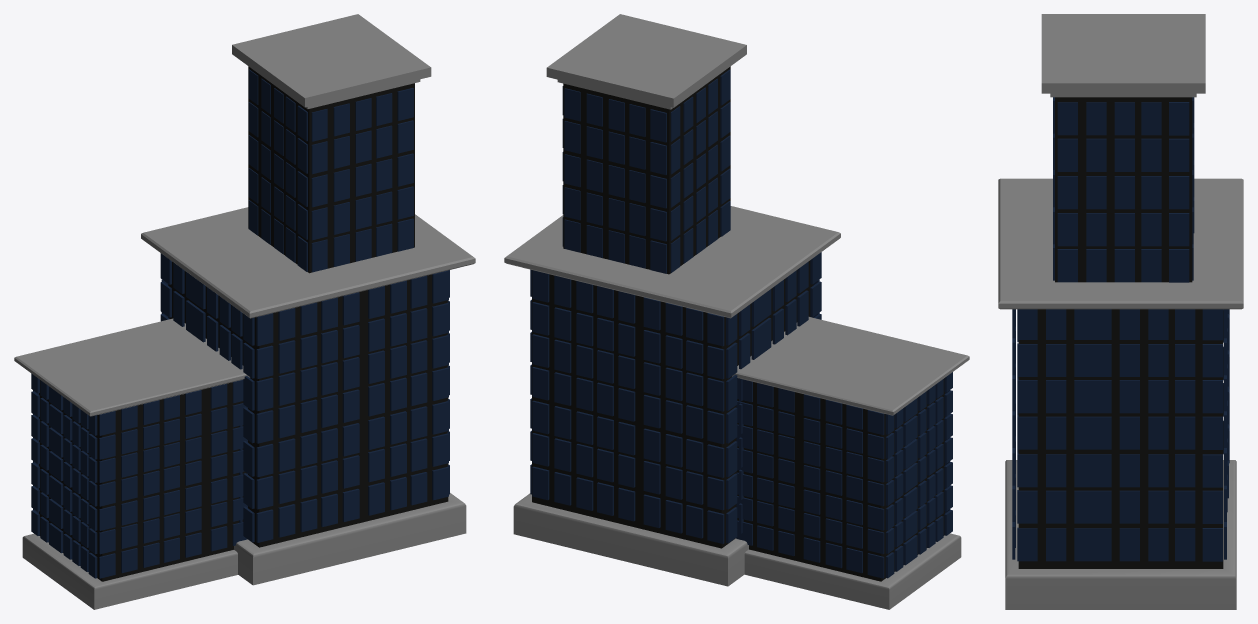
File: Building_Wall_02.fbx
3 renders of one model, left to right at view 1: azimuth 30°, elevation 25°; view 2: azimuth 150°, elevation 25°; view 3: azimuth 270°, elevation 25°, orthographic. The views are drawn at different scales.
Visible parts, largest first — view 1: Wall_Building_02; view 2: Wall_Building_02; view 3: Wall_Building_02.
Boxes of the visible parts, bbox=[...] form: Wall_Building_02: bbox=[14, 14, 475, 609]; Wall_Building_02: bbox=[504, 14, 969, 609]; Wall_Building_02: bbox=[998, 14, 1243, 609].
Bounding box in the file's own units: 1269 × 1505 × 647.
